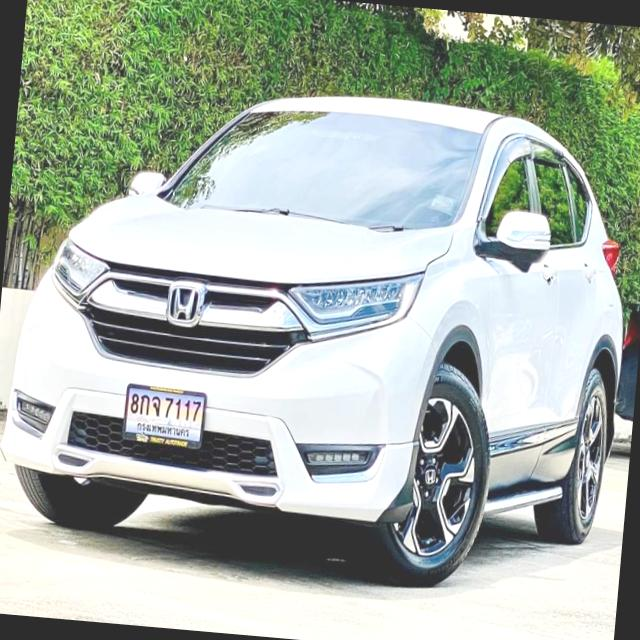license_plate: (120, 378, 206, 454)
